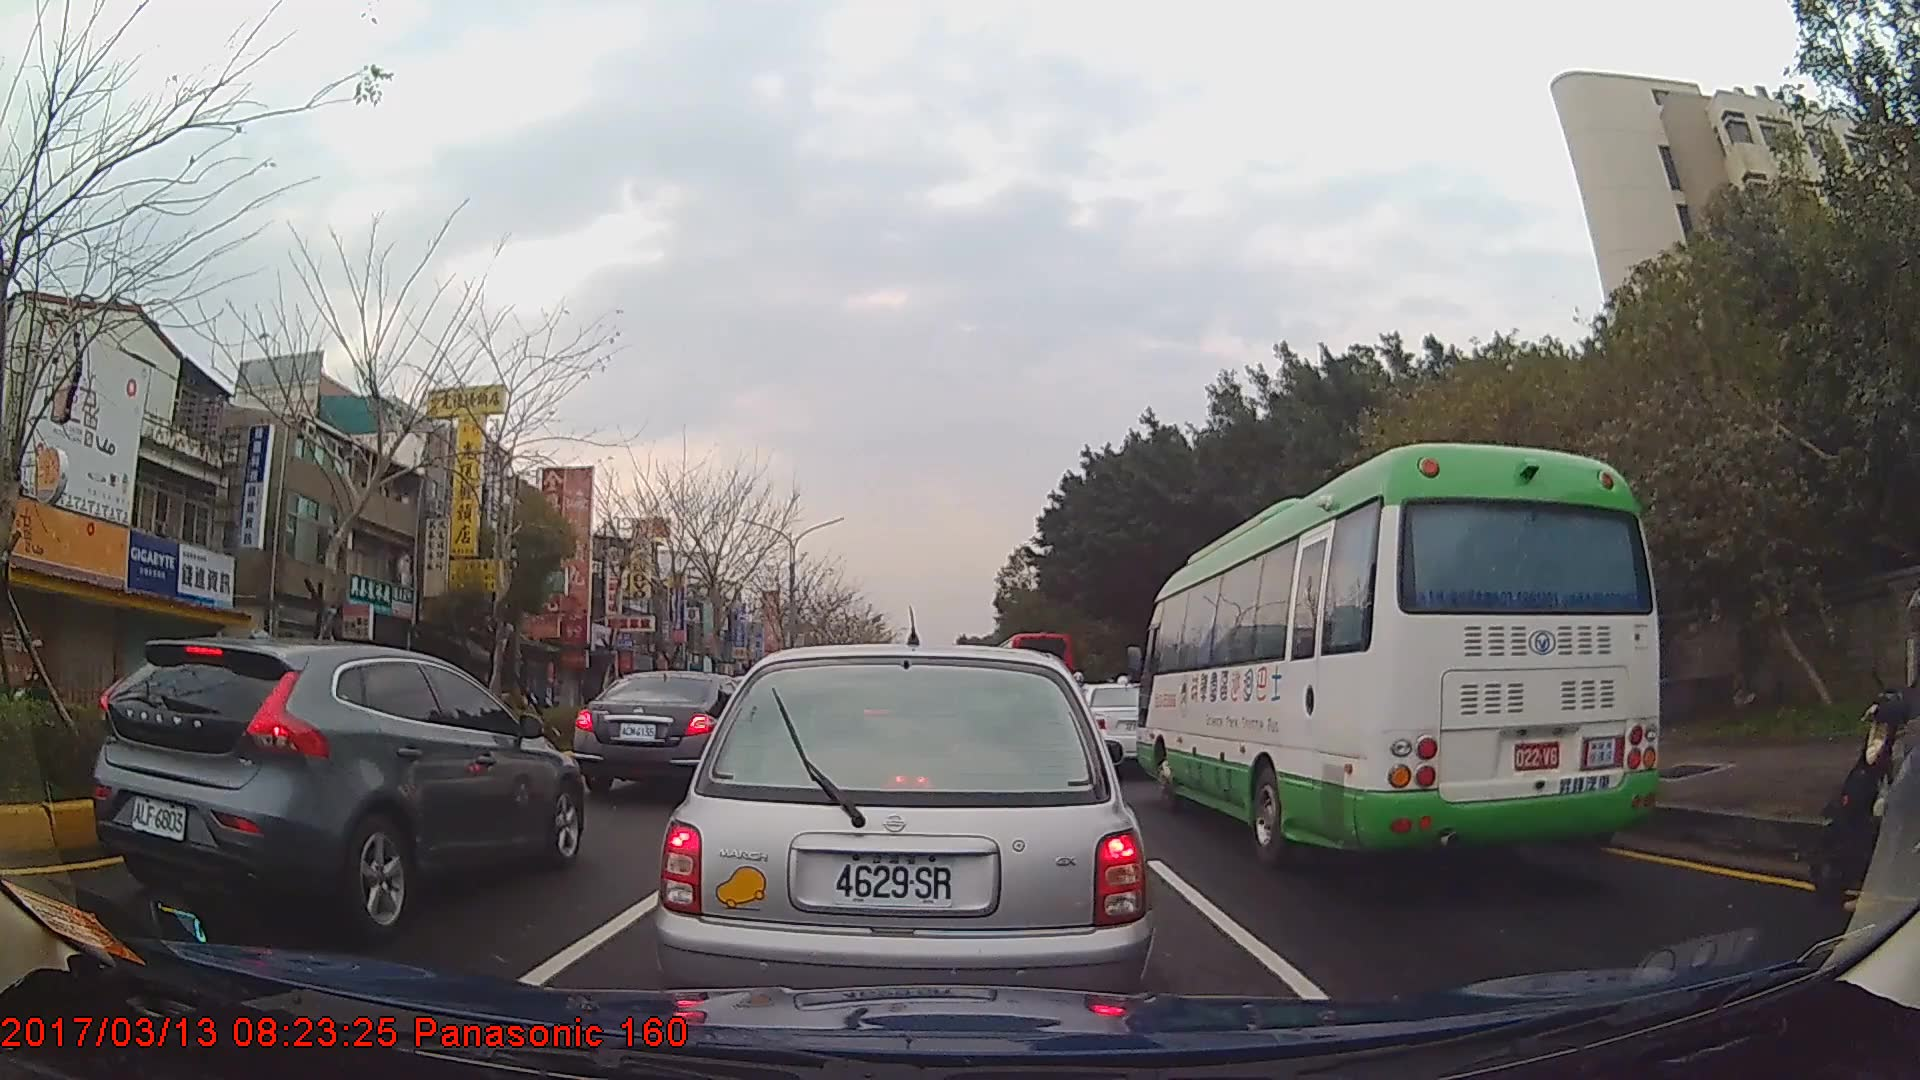rider: (1819, 580, 1920, 911), (15, 639, 54, 705)
vehicle: (1133, 439, 1658, 874), (655, 640, 1156, 1042), (92, 638, 584, 936), (571, 670, 759, 805), (1072, 680, 1173, 774), (994, 627, 1077, 722)
